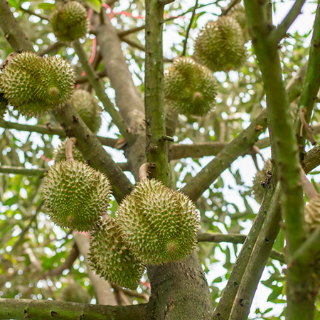sau_rieng: (115, 176, 205, 264), (41, 156, 112, 228)
